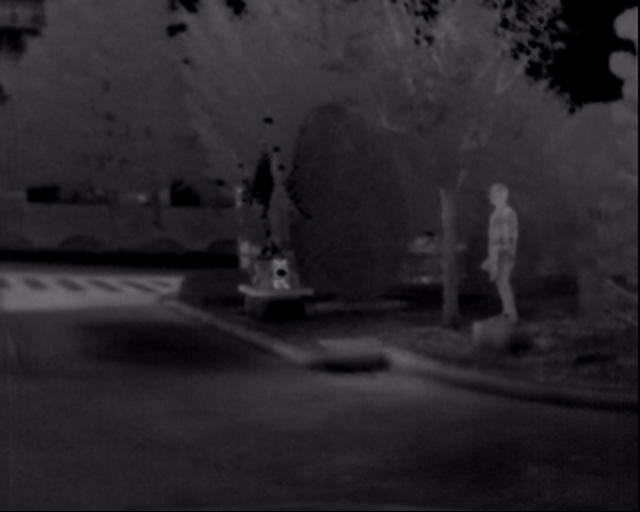person: (477, 176, 532, 337)
